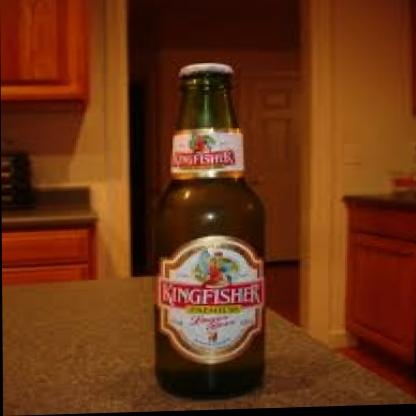trash: (156, 63, 264, 397)
